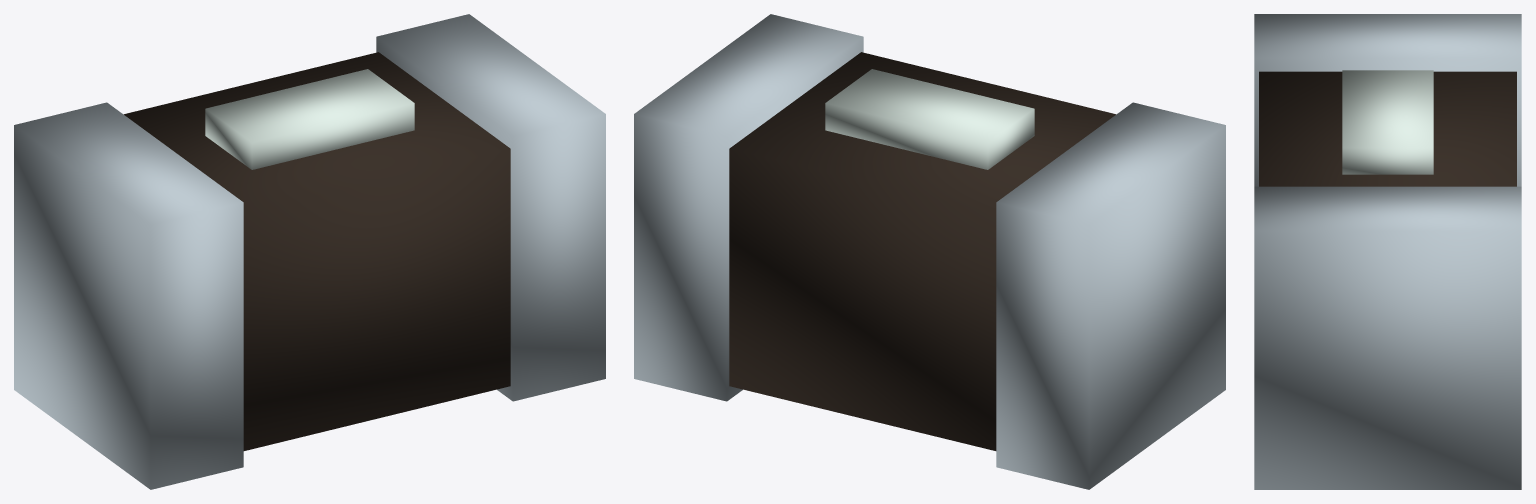
File: 32_L94_R8_Shunt_0R1.fbx
3 views of the same model, side by side, from view 1: azimuth 30°, elevation 25°; view 2: azimuth 150°, elevation 25°; view 3: azimuth 270°, elevation 25° (orthographic). The views are drawn at different scales.
Parts seen in each view (by area): view 1: L94_Shunt_0R1_Part_0001, L94_Shunt_0R1_Part_0000, L94_Shunt_0R1_Part_0002; view 2: L94_Shunt_0R1_Part_0001, L94_Shunt_0R1_Part_0000, L94_Shunt_0R1_Part_0002; view 3: L94_Shunt_0R1_Part_0001, L94_Shunt_0R1_Part_0000, L94_Shunt_0R1_Part_0002.
Boxes of the visible parts, bbox=[...] form: L94_Shunt_0R1_Part_0001: bbox=[14, 14, 605, 489]; L94_Shunt_0R1_Part_0000: bbox=[124, 52, 510, 450]; L94_Shunt_0R1_Part_0002: bbox=[205, 69, 414, 169]; L94_Shunt_0R1_Part_0001: bbox=[634, 14, 1225, 489]; L94_Shunt_0R1_Part_0000: bbox=[729, 52, 1115, 450]; L94_Shunt_0R1_Part_0002: bbox=[825, 69, 1034, 169]; L94_Shunt_0R1_Part_0001: bbox=[1254, 14, 1521, 489]; L94_Shunt_0R1_Part_0000: bbox=[1259, 71, 1516, 186]; L94_Shunt_0R1_Part_0002: bbox=[1342, 70, 1433, 174].
Size of the model in its own units: 5.21 by 3.05 by 2.71.
